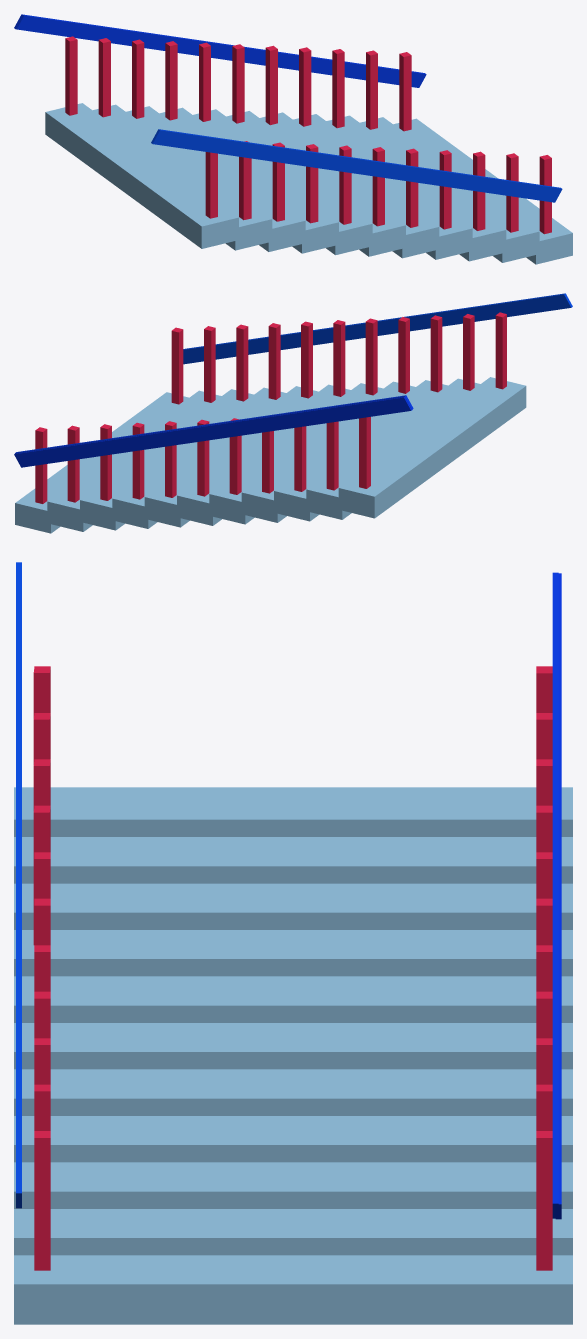
Rendered from stairrailingseperated.fbx.
3 renders of one model, top to bottom at view 1: azimuth 30°, elevation 25°; view 2: azimuth 150°, elevation 25°; view 3: azimuth 270°, elevation 25°, orthographic. The views are drawn at different scales.
Visible parts, largest first — view 1: Cylinder, Cube.003, Cube.001; view 2: Cylinder, Cube, Cube.003, Cube.001; view 3: Cylinder, Cube.001, Cube.003, Cube.
Part boxes in pixels (left/top/right/bottom): Cylinder: left=45, top=36, right=572, bottom=264; Cube.003: left=151, top=129, right=562, bottom=202; Cube.001: left=15, top=14, right=426, bottom=87; Cylinder: left=15, top=312, right=526, bottom=533; Cube: left=14, top=397, right=412, bottom=467; Cube.003: left=183, top=293, right=572, bottom=364; Cube.001: left=15, top=395, right=413, bottom=453; Cylinder: left=14, top=666, right=572, bottom=1324; Cube.001: left=552, top=572, right=558, bottom=1218; Cube.003: left=16, top=562, right=21, bottom=1208; Cube: left=555, top=573, right=561, bottom=1219.
Bounding box in the file's own units: 404 × 206 × 258.
